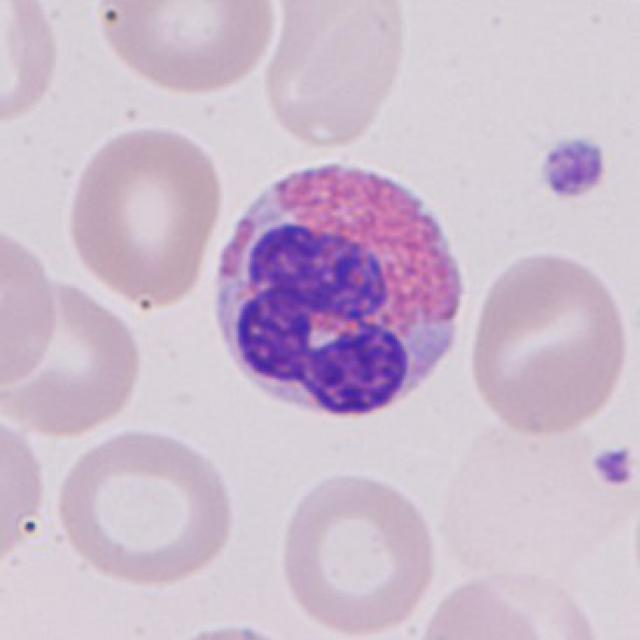Eosinophil: (201, 146, 481, 434)
Platelets: (533, 133, 612, 204), (588, 440, 634, 492)
RBC: (463, 244, 635, 440), (49, 424, 243, 592), (63, 118, 227, 310), (273, 465, 444, 638), (0, 272, 149, 440), (257, 2, 413, 152), (89, 0, 282, 97), (411, 567, 601, 640), (0, 215, 63, 396), (0, 404, 52, 574), (0, 0, 63, 132), (145, 617, 318, 640)
